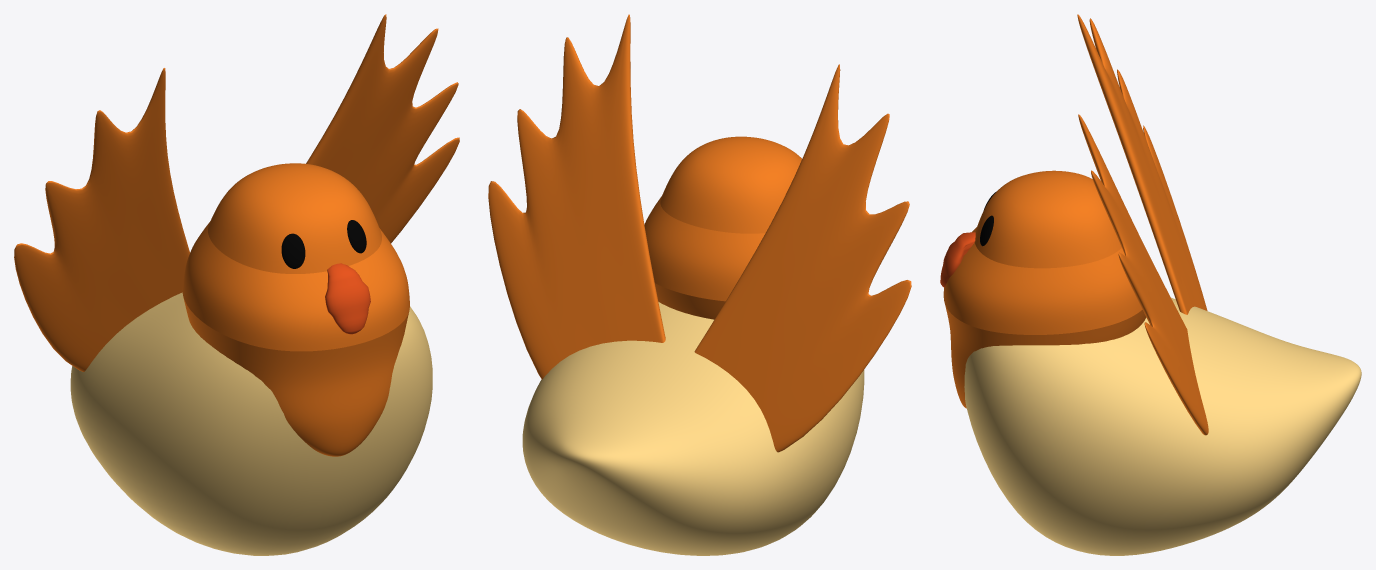
Rendered from ikki 020001.obj.
3 views of the same model, side by side, from view 1: azimuth 30°, elevation 25°; view 2: azimuth 150°, elevation 25°; view 3: azimuth 270°, elevation 25° (orthographic). The views are drawn at different scales.
Parts seen in each view (by area): view 1: Cubo, Cubo.001, Cubo.003, Cubo.002, Esfera.002, Esfera; view 2: Cubo, Cubo.003, Cubo.002, Cubo.001; view 3: Cubo, Cubo.001, Cubo.003, Cubo.002, Esfera.002.
Boxes of the visible parts, x1=… form: Cubo: x1=70, y1=292, x2=432, y2=555; Cubo.001: x1=182, y1=163, x2=409, y2=456; Cubo.003: x1=14, y1=68, x2=189, y2=371; Cubo.002: x1=306, y1=14, x2=459, y2=243; Esfera.002: x1=325, y1=263, x2=370, y2=334; Esfera: x1=281, y1=233, x2=305, y2=268; Cubo: x1=522, y1=302, x2=864, y2=555; Cubo.003: x1=694, y1=64, x2=911, y2=452; Cubo.002: x1=488, y1=14, x2=665, y2=379; Cubo.001: x1=644, y1=136, x2=801, y2=319; Cubo: x1=964, y1=297, x2=1361, y2=555; Cubo.001: x1=943, y1=170, x2=1146, y2=408; Cubo.003: x1=1077, y1=14, x2=1207, y2=314; Cubo.002: x1=1078, y1=114, x2=1208, y2=435; Esfera.002: x1=940, y1=232, x2=975, y2=287.
Size of the model in its own units: 8.38 by 9.26 by 7.49.
